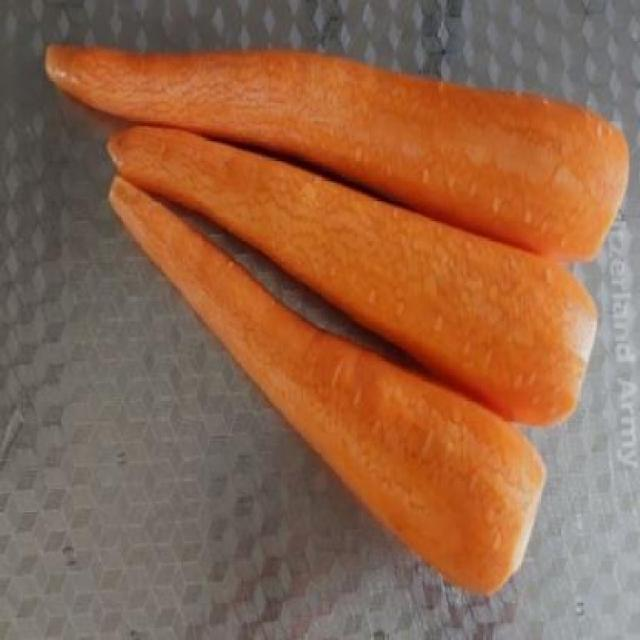carrot: (106, 176, 548, 612), (96, 114, 598, 433), (36, 34, 630, 266)
